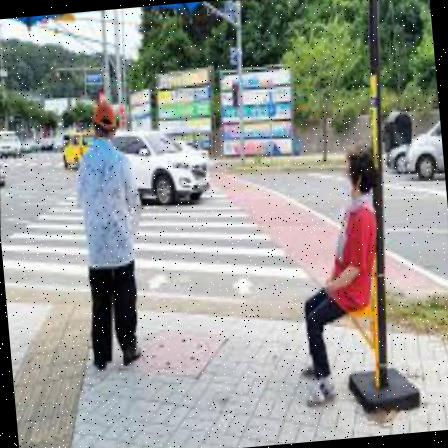silver: (283, 144, 399, 416), (58, 101, 162, 372)
